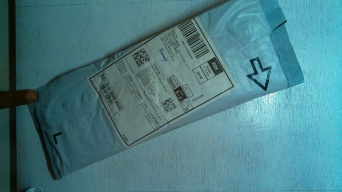a: (28, 1, 310, 178)
